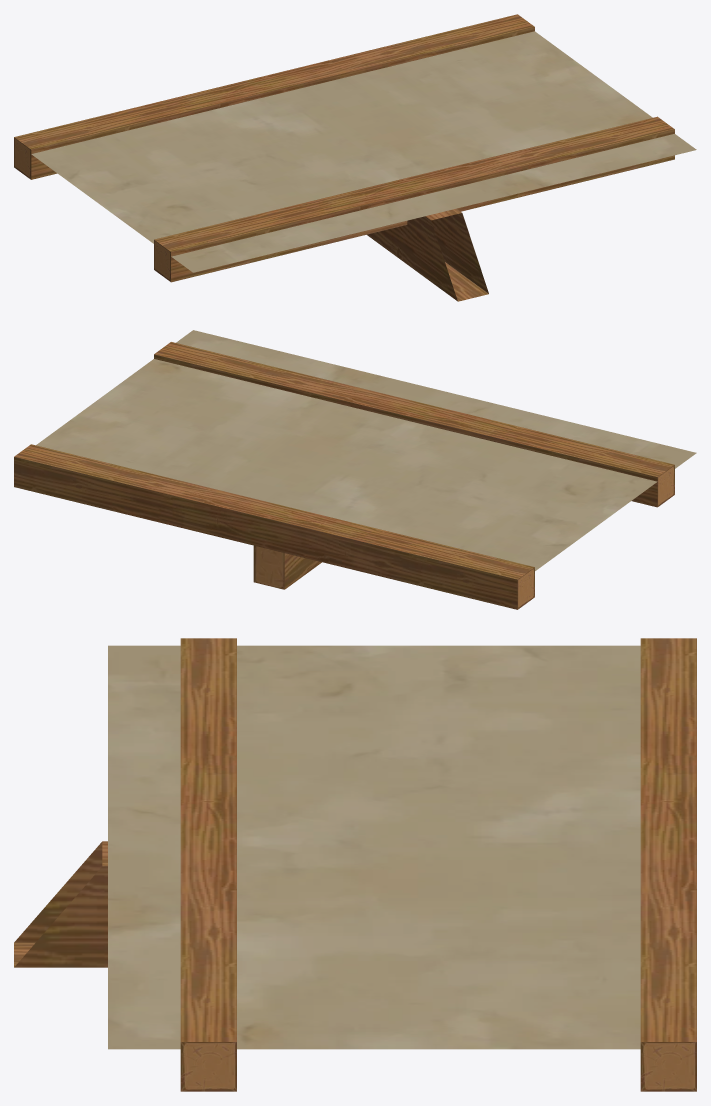
The model's file is overhang_roofincline_plaster.glb.
The picture shows the model from 3 angles, top to bottom: view 1: azimuth 30°, elevation 25°; view 2: azimuth 150°, elevation 25°; view 3: azimuth 270°, elevation 25°; orthographic projection. The views are drawn at different scales.
Bounding box in the file's own units: 2 × 0.2659 × 1.43.
2 materials, 2 textured.
